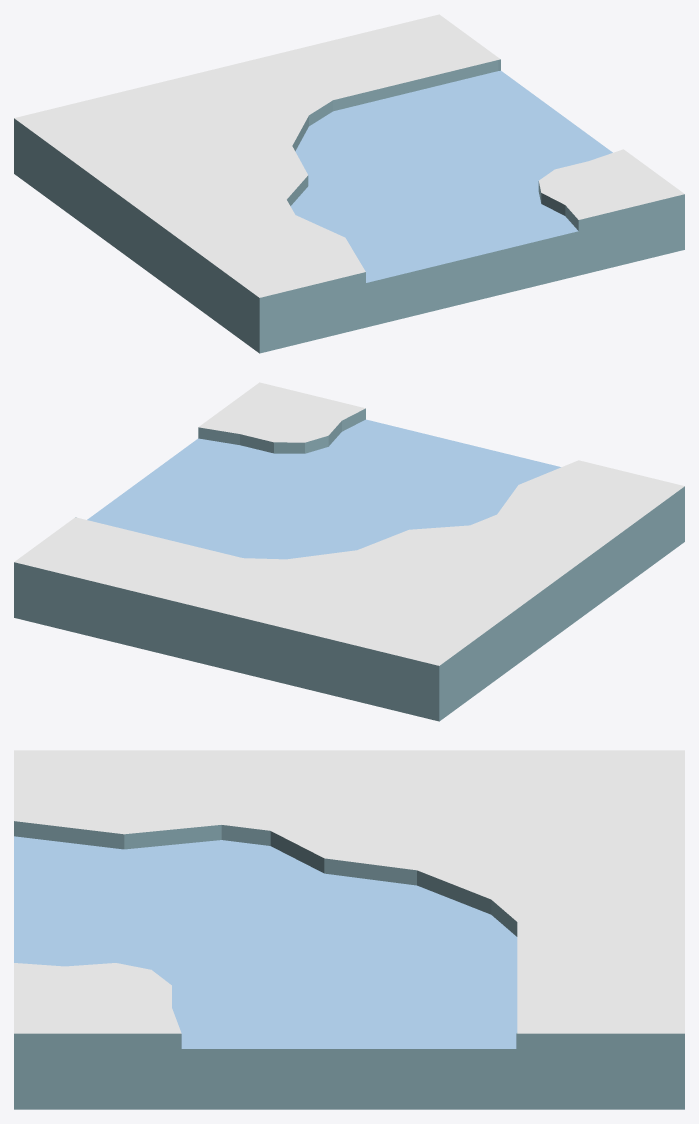
The model's file is Terrain_Tile_Ice_Snow_River_Bend_02.fbx.
The picture shows the model from 3 angles, top to bottom: view 1: azimuth 30°, elevation 25°; view 2: azimuth 150°, elevation 25°; view 3: azimuth 270°, elevation 25°; orthographic projection. The views are drawn at different scales.
Visible parts, largest first — view 1: Terrain_Tile_Ice_Snow_River_Bend_02; view 2: Terrain_Tile_Ice_Snow_River_Bend_02; view 3: Terrain_Tile_Ice_Snow_River_Bend_02.
Boxes of the visible parts, left/top/right/bottom form: Terrain_Tile_Ice_Snow_River_Bend_02: left=14, top=14, right=684, bottom=353; Terrain_Tile_Ice_Snow_River_Bend_02: left=14, top=382, right=684, bottom=721; Terrain_Tile_Ice_Snow_River_Bend_02: left=14, top=750, right=684, bottom=1109.
Bounding box in the file's own units: 126 × 15.75 × 126.
